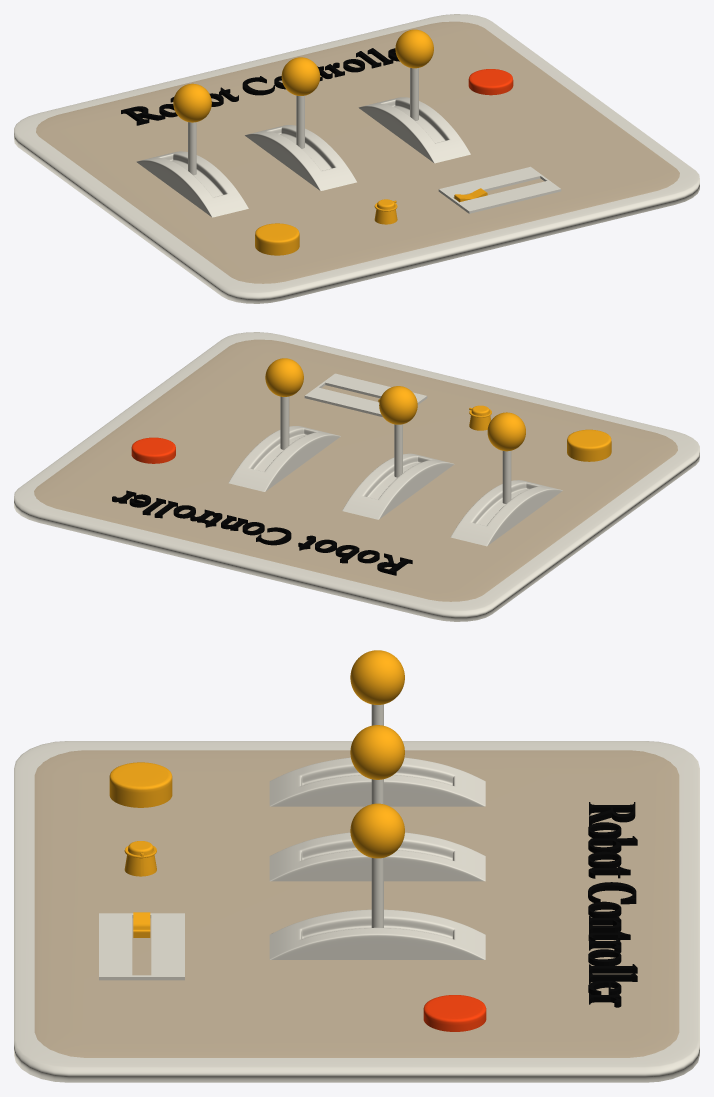
Rendered from ControlPanel.fbx.
3 renders of one model, top to bottom at view 1: azimuth 30°, elevation 25°; view 2: azimuth 150°, elevation 25°; view 3: azimuth 270°, elevation 25°, orthographic. The views are drawn at different scales.
Visible parts, largest first — view 1: Base, Frame, Lever_Container_2, Lever_Container_1, Lever_Container_3, Slider_Container, Panel_Title, Lever_1, Lever_3, Lever_2, Knob_1, Reset_Button (+1 smaller); view 2: Base, Frame, Lever_Container_2, Lever_Container_1, Lever_Container_3, Panel_Title, Slider_Container, Lever_1, Lever_3, Lever_2, Knob_1, Reset_Button (+1 smaller); view 3: Base, Frame, Lever_Container_3, Lever_Container_1, Lever_Container_2, Panel_Title, Slider_Container, Lever_3, Lever_2, Lever_1, Knob_1, Reset_Button (+1 smaller).
Boxes of the visible parts, x1,y1,x2,y2 form: Base: (36, 21, 679, 283); Frame: (14, 14, 699, 303); Lever_Container_2: (245, 125, 356, 190); Lever_Container_1: (136, 151, 248, 217); Lever_Container_3: (358, 97, 470, 163); Slider_Container: (438, 166, 561, 213); Panel_Title: (121, 48, 399, 125); Lever_1: (173, 83, 211, 175); Lever_3: (395, 29, 433, 120); Lever_2: (281, 57, 320, 148); Knob_1: (255, 223, 299, 255); Reset_Button: (468, 69, 513, 95); Base: (34, 339, 677, 601); Frame: (14, 332, 699, 621); Lever_Container_2: (342, 453, 454, 519); Lever_Container_1: (450, 480, 562, 546); Lever_Container_3: (228, 426, 340, 491); Panel_Title: (112, 490, 412, 575); Slider_Container: (304, 373, 427, 416); Lever_1: (487, 412, 525, 503); Lever_3: (265, 358, 303, 449); Lever_2: (379, 386, 417, 477); Knob_1: (567, 429, 611, 461); Reset_Button: (131, 437, 175, 463); Base: (34, 750, 679, 1057); Frame: (14, 741, 699, 1082); Lever_Container_3: (269, 909, 485, 959); Lever_Container_1: (269, 757, 485, 806); Lever_Container_2: (269, 832, 485, 881); Panel_Title: (588, 802, 637, 1007); Slider_Container: (99, 913, 184, 980); Lever_3: (350, 803, 404, 927); Lever_2: (350, 725, 404, 804); Lever_1: (350, 650, 404, 725); Knob_1: (109, 762, 172, 807); Reset_Button: (423, 995, 486, 1031).
Bounding box in the file's own units: 659 × 150 × 584.
